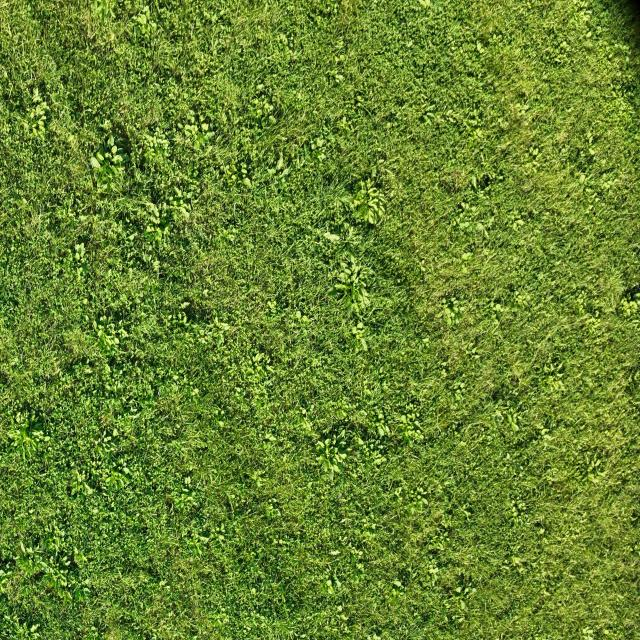rumex: (319, 504, 390, 623), (534, 4, 594, 74), (385, 447, 435, 526), (249, 135, 299, 203), (382, 0, 439, 56), (144, 184, 193, 247), (600, 27, 640, 102), (445, 192, 494, 252), (167, 473, 210, 538), (444, 570, 482, 626), (90, 133, 126, 190), (218, 148, 257, 196), (239, 347, 275, 397), (98, 442, 134, 490), (458, 105, 493, 154), (9, 412, 47, 456), (140, 123, 171, 173), (389, 406, 422, 450), (315, 433, 347, 477), (571, 301, 603, 344), (318, 560, 348, 602), (322, 392, 352, 434), (308, 130, 337, 173), (91, 318, 122, 358), (538, 358, 568, 399), (207, 313, 235, 356), (492, 400, 524, 435), (128, 4, 156, 44), (437, 294, 467, 331), (349, 92, 379, 128), (324, 54, 351, 92), (198, 1, 228, 34), (68, 463, 95, 499), (522, 138, 548, 175), (250, 93, 276, 126), (312, 1, 345, 27), (169, 186, 192, 220), (188, 122, 213, 153), (347, 320, 369, 354), (582, 452, 606, 481), (573, 3, 594, 36), (573, 289, 595, 320), (28, 100, 49, 132), (450, 373, 471, 404), (274, 31, 294, 63), (618, 293, 640, 321), (93, 0, 113, 28), (420, 107, 446, 128), (511, 288, 535, 310), (511, 99, 533, 123), (366, 189, 385, 216), (144, 223, 164, 248), (354, 196, 370, 220), (354, 290, 368, 312), (30, 90, 46, 109), (74, 242, 86, 266), (598, 178, 616, 194), (329, 284, 347, 298), (336, 192, 354, 206), (225, 170, 238, 188), (318, 437, 331, 455), (266, 298, 278, 317), (300, 418, 314, 434), (182, 122, 198, 136), (8, 427, 22, 443), (444, 110, 460, 124), (146, 202, 160, 217), (36, 560, 50, 574), (346, 282, 358, 298), (354, 191, 366, 207), (264, 432, 278, 445), (443, 306, 454, 322), (144, 132, 156, 146), (510, 554, 524, 566), (581, 627, 595, 639), (320, 458, 331, 473), (73, 587, 83, 603), (428, 566, 441, 578), (533, 518, 546, 530), (89, 156, 101, 169), (492, 412, 503, 426), (338, 271, 350, 283), (191, 139, 202, 152), (422, 104, 436, 114), (138, 12, 148, 26), (276, 153, 284, 170), (20, 427, 29, 442), (101, 118, 112, 130), (339, 260, 351, 271), (418, 0, 431, 10), (376, 425, 386, 438), (470, 174, 478, 190), (274, 134, 288, 143), (461, 251, 473, 261), (326, 580, 334, 595), (419, 114, 431, 124), (381, 424, 391, 436), (578, 173, 588, 185), (112, 154, 124, 164), (349, 252, 357, 267), (351, 263, 360, 276), (327, 548, 341, 556), (144, 226, 154, 237), (356, 436, 366, 447), (95, 151, 104, 163), (359, 180, 368, 192), (152, 260, 160, 273), (514, 219, 525, 228), (253, 352, 262, 363), (200, 122, 209, 133), (586, 132, 594, 144), (476, 40, 483, 53), (180, 301, 190, 310), (217, 420, 226, 430), (530, 147, 539, 157), (323, 232, 334, 240), (70, 485, 77, 497), (371, 165, 377, 179), (108, 134, 114, 148), (583, 10, 592, 19), (30, 623, 39, 632), (588, 146, 596, 156), (515, 462, 523, 472), (110, 144, 118, 154), (540, 428, 548, 437), (356, 95, 364, 104), (184, 192, 193, 200), (356, 321, 364, 330), (295, 310, 302, 320), (461, 201, 468, 211), (112, 427, 118, 438), (454, 586, 462, 594), (538, 526, 545, 535), (185, 476, 191, 486), (339, 54, 346, 62), (635, 291, 640, 301)
